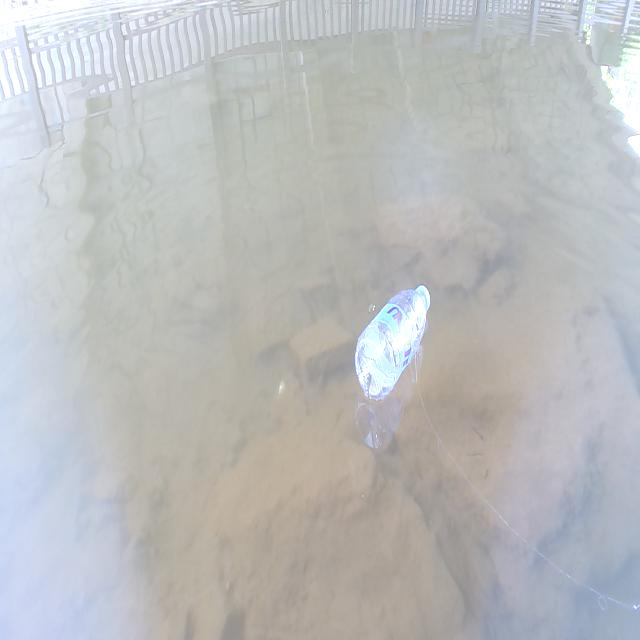bottle: (334, 251, 451, 421)
